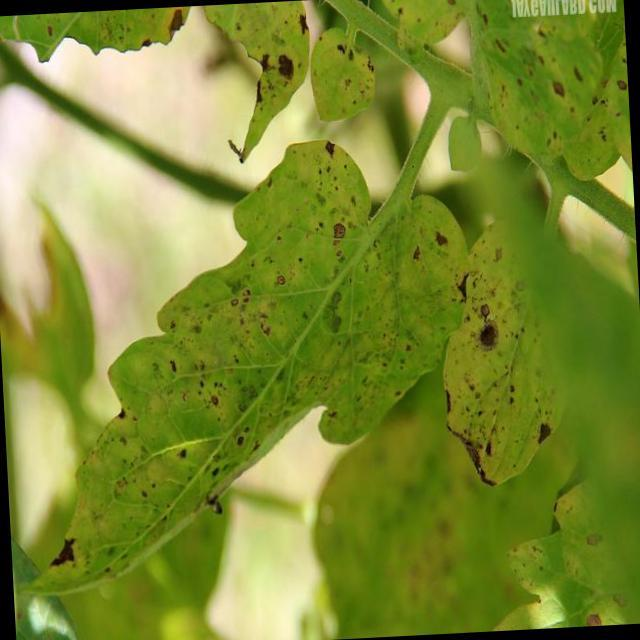Tomato leaf bacterial spot: (74, 135, 484, 594), (434, 153, 569, 500)
